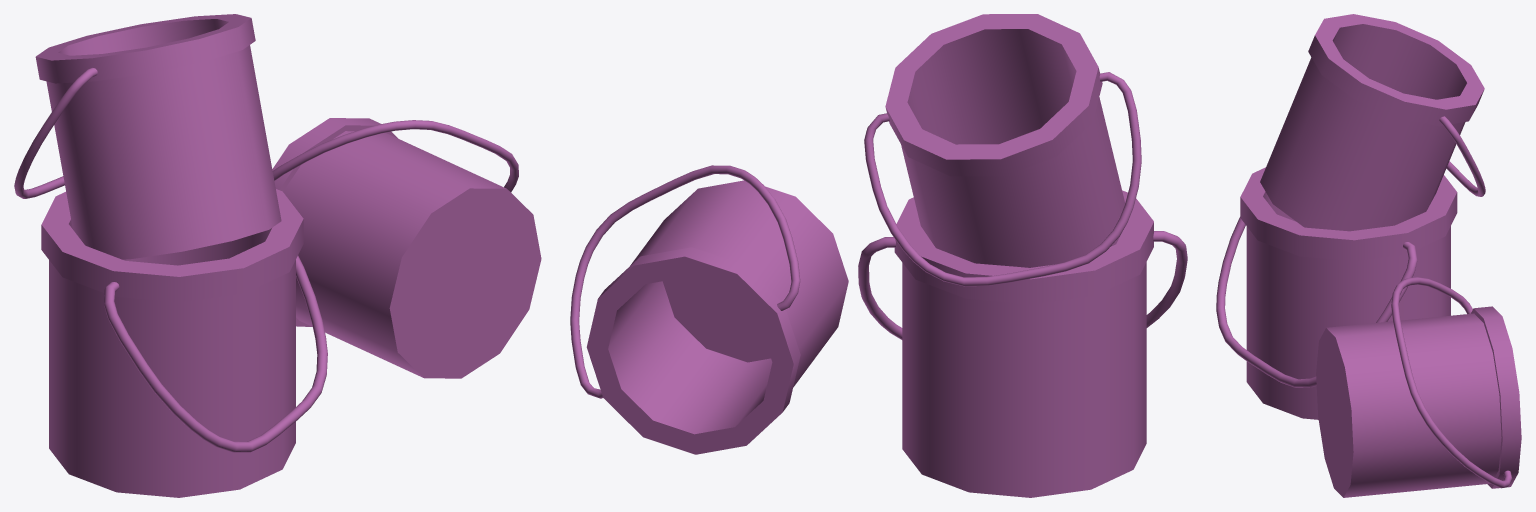
The model's file is PaintBuckets.fbx.
3 renders of one model, left to right at view 1: azimuth 30°, elevation 25°; view 2: azimuth 150°, elevation 25°; view 3: azimuth 270°, elevation 25°, orthographic. The views are drawn at different scales.
Parts seen in each view (by area): view 1: pb_02 (×3), pb_01 (×3); view 2: pb_02 (×3), pb_01 (×3); view 3: pb_02 (×3), pb_01 (×3).
Boxes of the visible parts, x1=… form: pb_02 (×3): x1=35, y1=14, x2=541, y2=497; pb_01 (×3): x1=14, y1=67, x2=518, y2=452; pb_02 (×3): x1=586, y1=14, x2=1153, y2=497; pb_01 (×3): x1=570, y1=72, x2=1187, y2=398; pb_02 (×3): x1=1240, y1=14, x2=1521, y2=497; pb_01 (×3): x1=1216, y1=116, x2=1512, y2=488.
Bounding box in the file's own units: 1.67 × 1.27 × 1.01.
